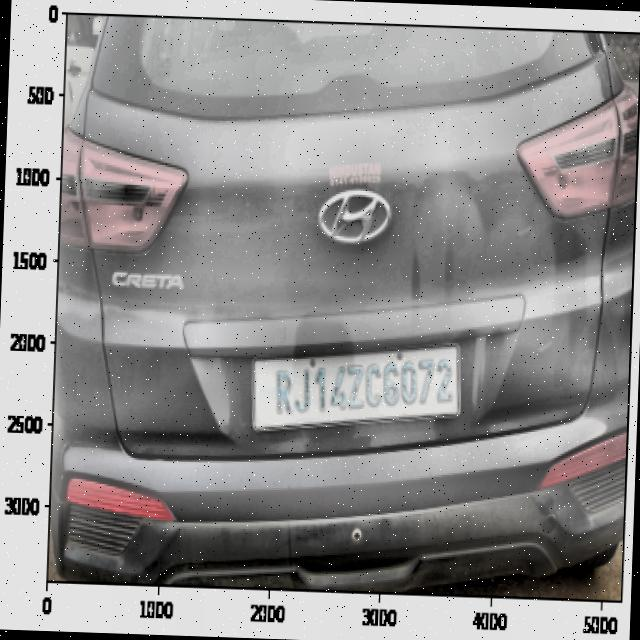license_plate: (268, 344, 462, 425)
